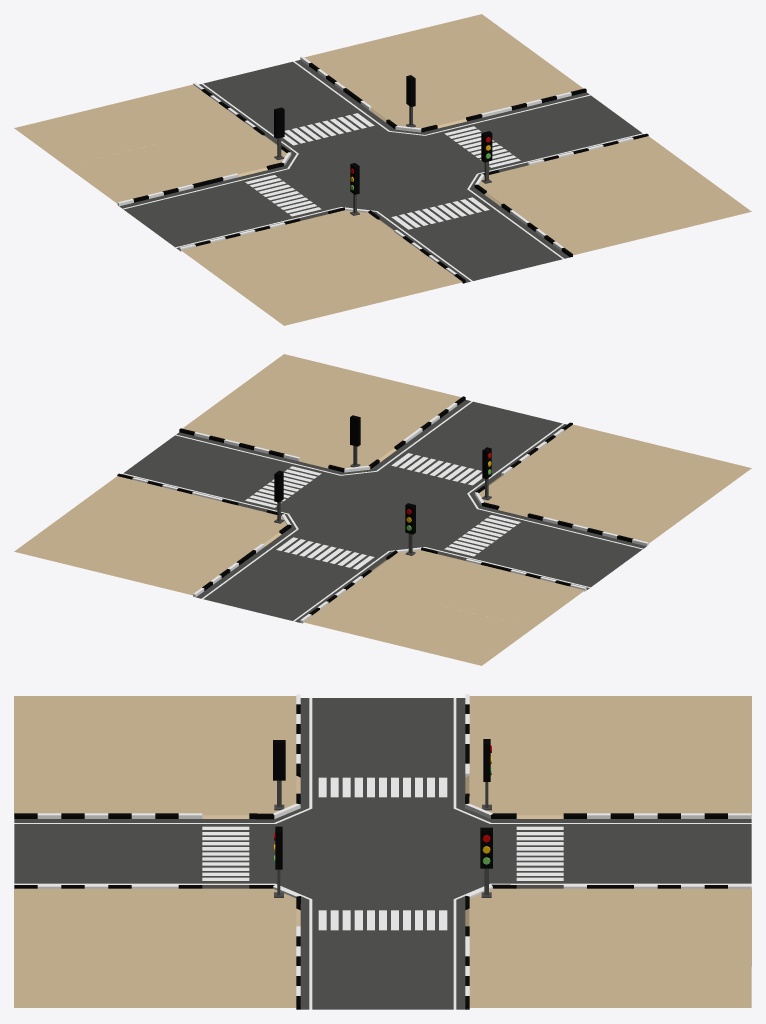
The model's file is crossroads.fbx.
3 renders of one model, top to bottom at view 1: azimuth 30°, elevation 25°; view 2: azimuth 150°, elevation 25°; view 3: azimuth 270°, elevation 25°, orthographic. The views are drawn at different scales.
Parts seen in each view (by area): view 1: crossroads; view 2: crossroads; view 3: crossroads.
Part boxes in pixels (x1,y1,x2,y2): crossroads: [14, 14, 751, 325]; crossroads: [14, 354, 751, 665]; crossroads: [14, 694, 751, 1009].
Size of the model in its own units: 2716 by 278 by 2717.
